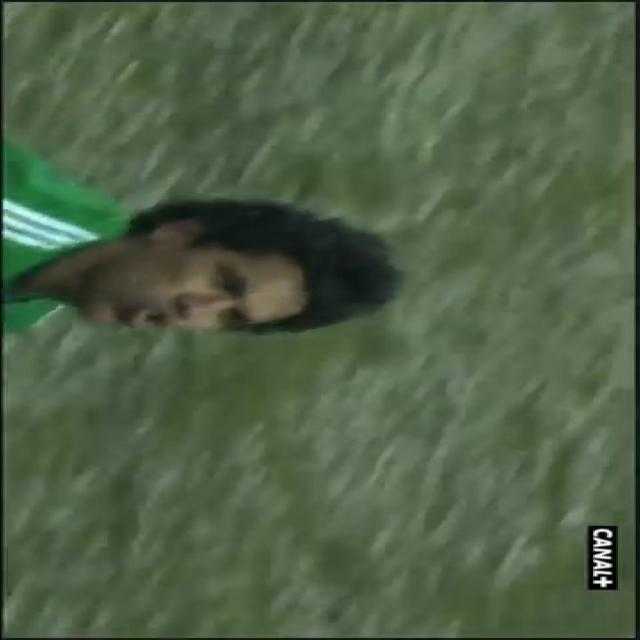player: (0, 142, 462, 378)
